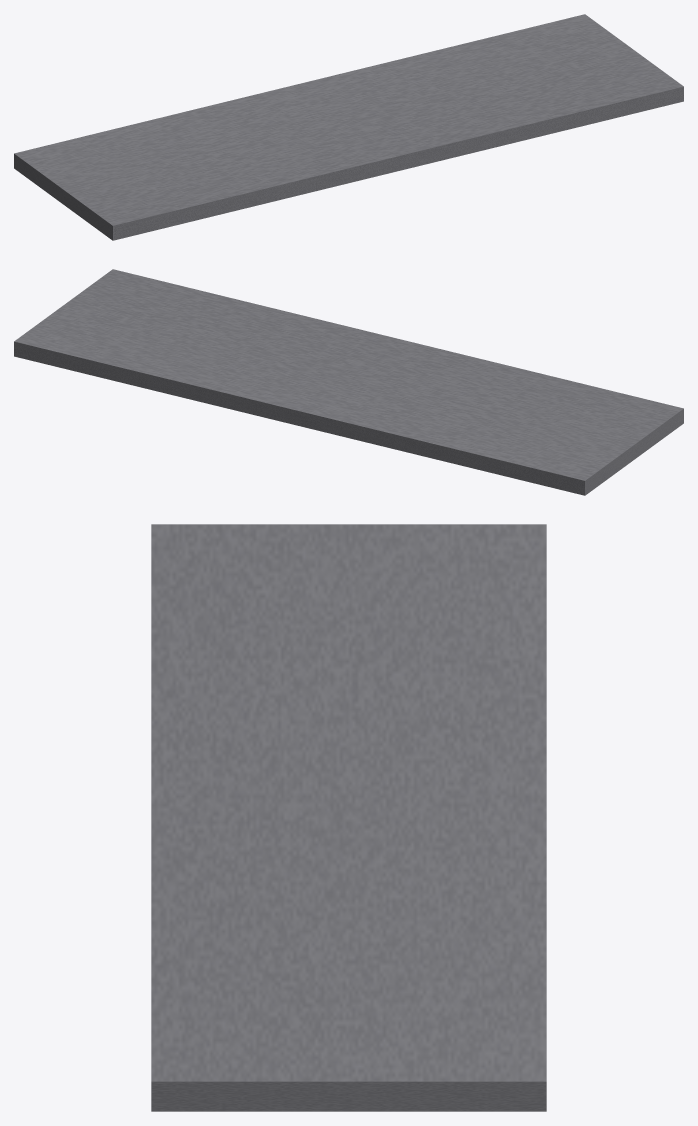
The picture shows the model from 3 angles, top to bottom: view 1: azimuth 30°, elevation 25°; view 2: azimuth 150°, elevation 25°; view 3: azimuth 270°, elevation 25°; orthographic projection. The views are drawn at different scales.
Parts seen in each view (by area): view 1: win_office_1u_lod0_run001; view 2: win_office_1u_lod0_run001; view 3: win_office_1u_lod0_run001.
Boxes of the visible parts, x1=… form: win_office_1u_lod0_run001: x1=14, y1=14, x2=683, y2=240; win_office_1u_lod0_run001: x1=14, y1=269, x2=683, y2=495; win_office_1u_lod0_run001: x1=151, y1=524, x2=546, y2=1111.
Bounding box in the file's own units: 4 × 0.1 × 1.2.
1 material, 1 textured.
